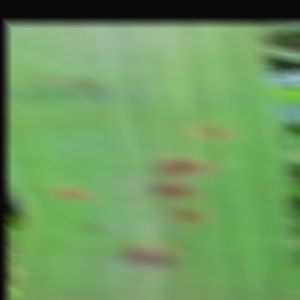Bacterial_Leaf_Blight: (107, 238, 192, 272), (142, 153, 216, 178), (140, 181, 201, 201), (63, 218, 114, 237), (61, 74, 106, 91), (53, 185, 93, 203), (195, 122, 232, 140), (167, 208, 204, 225)
